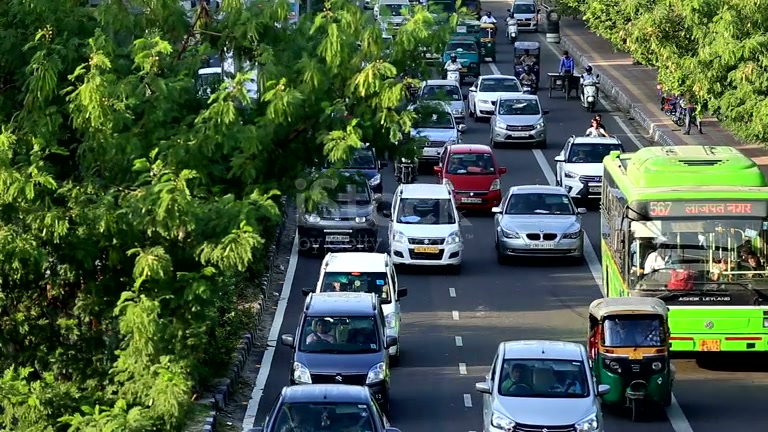bus: (599, 144, 768, 365)
car: (474, 340, 607, 431), (288, 291, 393, 393), (312, 252, 408, 361), (380, 183, 465, 272), (493, 184, 584, 265), (263, 383, 398, 431), (434, 143, 507, 215), (554, 134, 624, 209), (489, 94, 550, 149), (416, 79, 468, 132), (467, 75, 524, 122)
motorcycle: (580, 77, 599, 112)
pedestrian: (501, 362, 534, 393), (644, 239, 671, 273), (558, 50, 575, 96), (685, 103, 703, 135), (586, 114, 609, 138)
truck: (588, 296, 675, 415), (296, 168, 380, 257)
